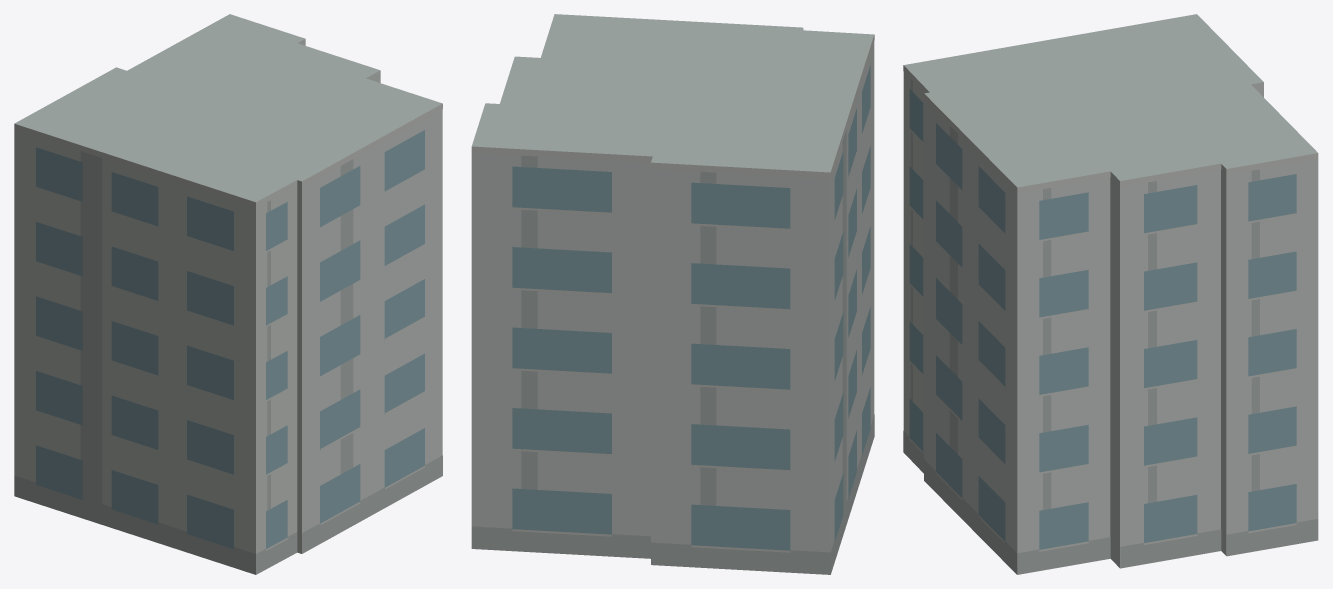
Rendered from survey-upis-32589133.glb.
3 views of the same model, side by side, from view 1: azimuth 30°, elevation 25°; view 2: azimuth 150°, elevation 25°; view 3: azimuth 270°, elevation 25° (orthographic). The views are drawn at different scales.
Visible parts, largest first — view 1: survey-upis-32589133.tmp; view 2: survey-upis-32589133.tmp; view 3: survey-upis-32589133.tmp.
Part boxes in pixels (bbox=[...]): survey-upis-32589133.tmp: bbox=[14, 14, 442, 574]; survey-upis-32589133.tmp: bbox=[471, 14, 874, 574]; survey-upis-32589133.tmp: bbox=[903, 14, 1318, 574].
Size of the model in its own units: 14.71 by 15.3 by 14.86.
